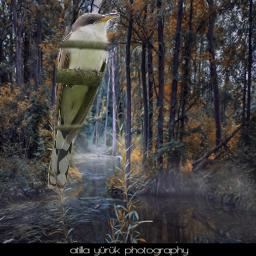Cuckoo: (48, 12, 120, 190)
